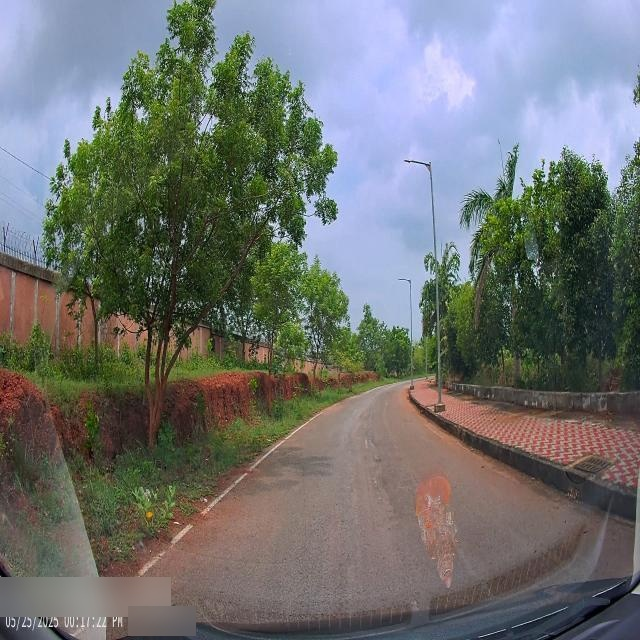pothole: (372, 470, 389, 490), (366, 434, 379, 452), (372, 450, 380, 465), (368, 407, 372, 428)
